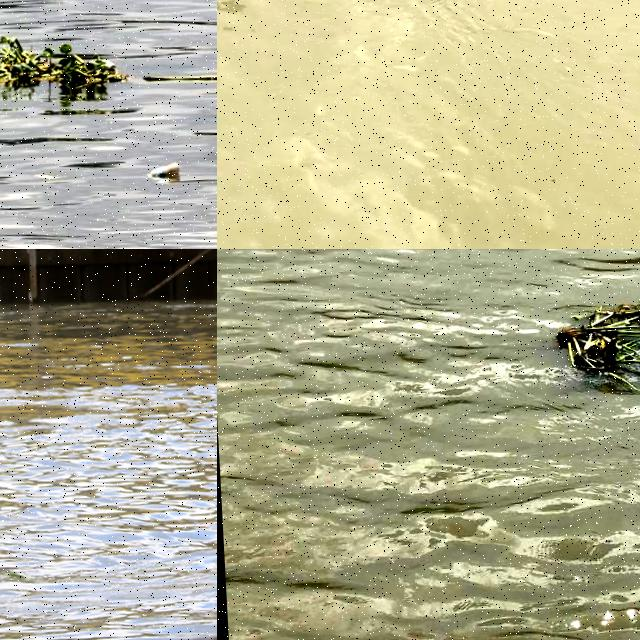water-hyacinth: (549, 287, 640, 408), (1, 26, 117, 95)
